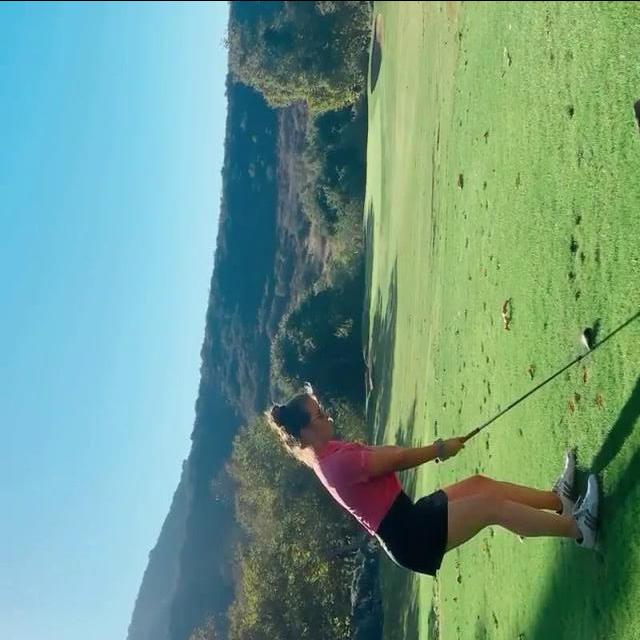golf club-handle: (433, 326, 600, 463)
golf club-head: (579, 328, 595, 349)
